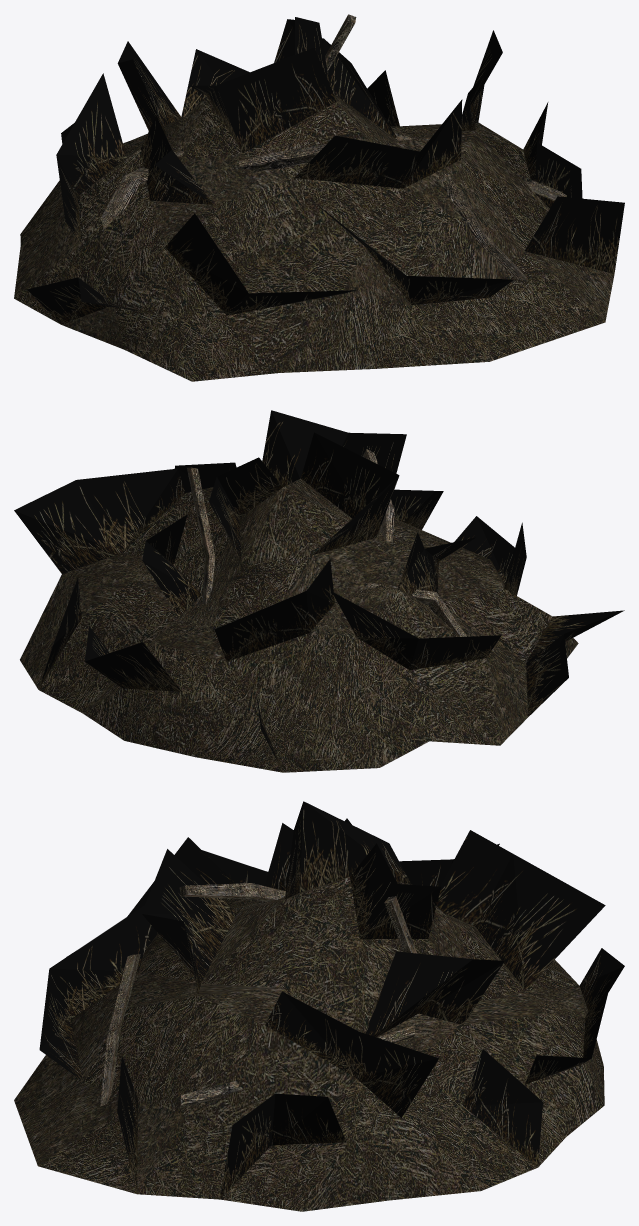
File: G3_Object_Dunghill_02.obj
3 views of the same model, one above another, from view 1: azimuth 30°, elevation 25°; view 2: azimuth 150°, elevation 25°; view 3: azimuth 270°, elevation 25° (orthographic). The views are drawn at different scales.
Visible parts, largest first — view 1: G3_Object_Dunghill_02_0, G3_Object_Dunghill_02_1, G3_Object_Dunghill_02_2; view 2: G3_Object_Dunghill_02_0, G3_Object_Dunghill_02_1, G3_Object_Dunghill_02_2; view 3: G3_Object_Dunghill_02_0, G3_Object_Dunghill_02_1, G3_Object_Dunghill_02_2.
Part boxes in pixels (left/top/right/bottom): G3_Object_Dunghill_02_0: left=14, top=93, right=614, bottom=381; G3_Object_Dunghill_02_1: left=27, top=17, right=624, bottom=324; G3_Object_Dunghill_02_2: left=100, top=14, right=566, bottom=280; G3_Object_Dunghill_02_0: left=20, top=478, right=578, bottom=772; G3_Object_Dunghill_02_1: left=14, top=410, right=624, bottom=770; G3_Object_Dunghill_02_2: left=173, top=449, right=466, bottom=636; G3_Object_Dunghill_02_0: left=14, top=877, right=604, bottom=1211; G3_Object_Dunghill_02_1: left=39, top=801, right=624, bottom=1198; G3_Object_Dunghill_02_2: left=100, top=883, right=416, bottom=1108.
Size of the model in its own units: 5.8 by 2.37 by 5.32.
